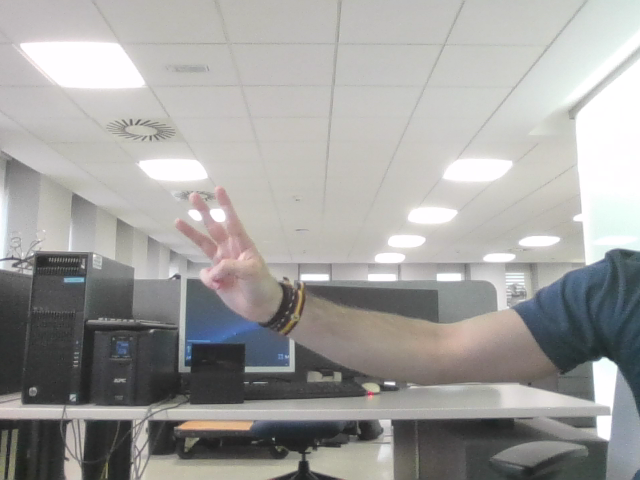3Dedos: (184, 197, 256, 283)
